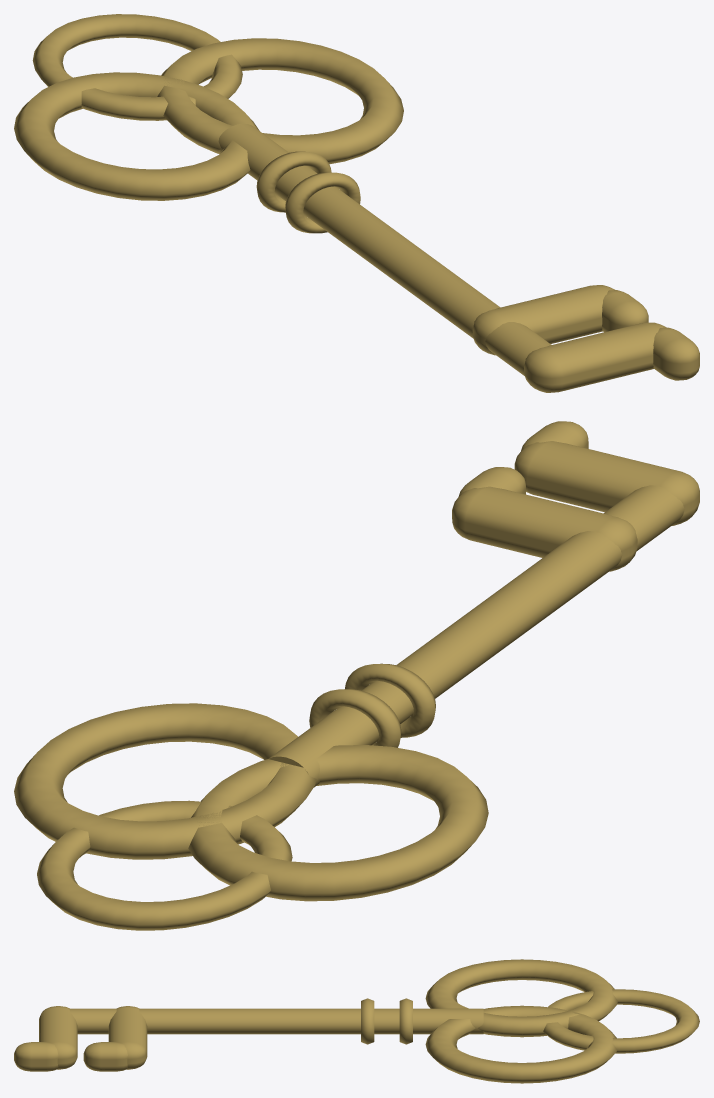
File: ornate-key.glb
The picture shows the model from 3 angles, top to bottom: view 1: azimuth 30°, elevation 25°; view 2: azimuth 150°, elevation 25°; view 3: azimuth 270°, elevation 25°; orthographic projection. The views are drawn at different scales.
Parts seen in each view (by area): view 1: ornate-key; view 2: ornate-key; view 3: ornate-key.
Part boxes in pixels (left/top/right/bottom): ornate-key: left=14, top=14, right=699, bottom=392; ornate-key: left=14, top=421, right=699, bottom=930; ornate-key: left=14, top=959, right=699, bottom=1083.
Bounding box in the file's own units: 0.075 × 0.012 × 0.19.
